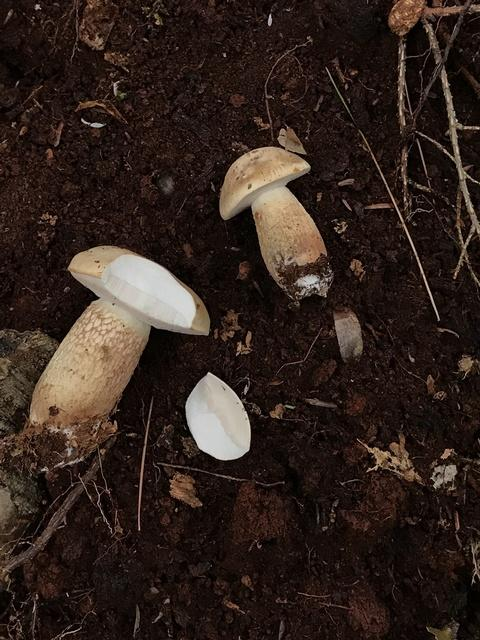Non-edible Mushroom: (23, 242, 211, 469), (217, 144, 334, 304)
